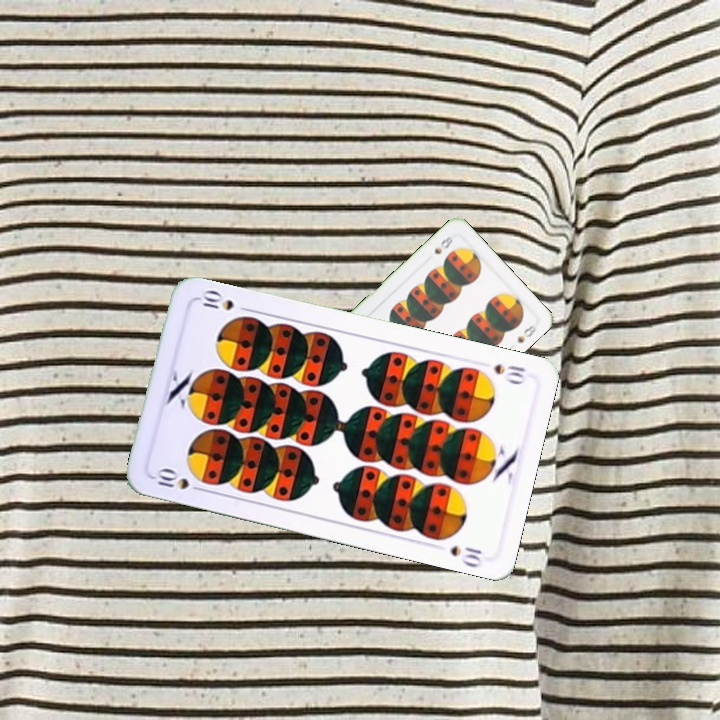S10: (153, 465, 208, 495), (489, 360, 528, 387)
S8: (430, 232, 456, 257)
